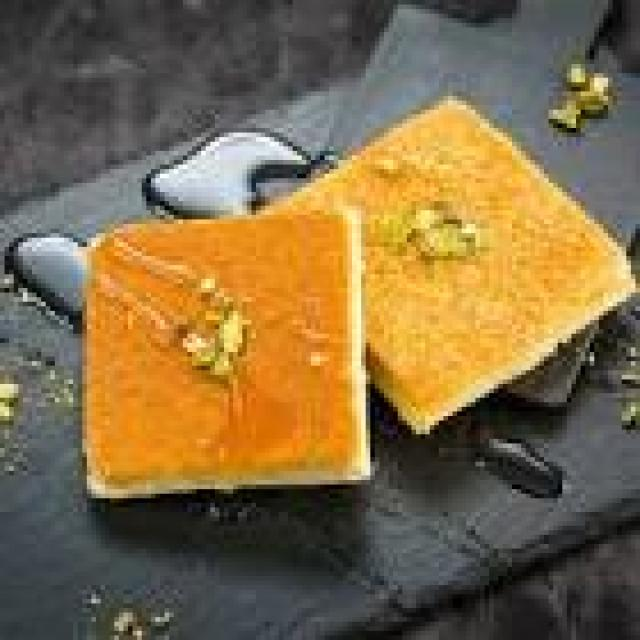konafa: (46, 81, 640, 507)
